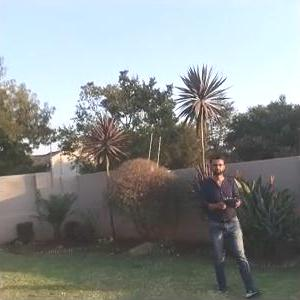follow: (193, 145, 262, 297)
